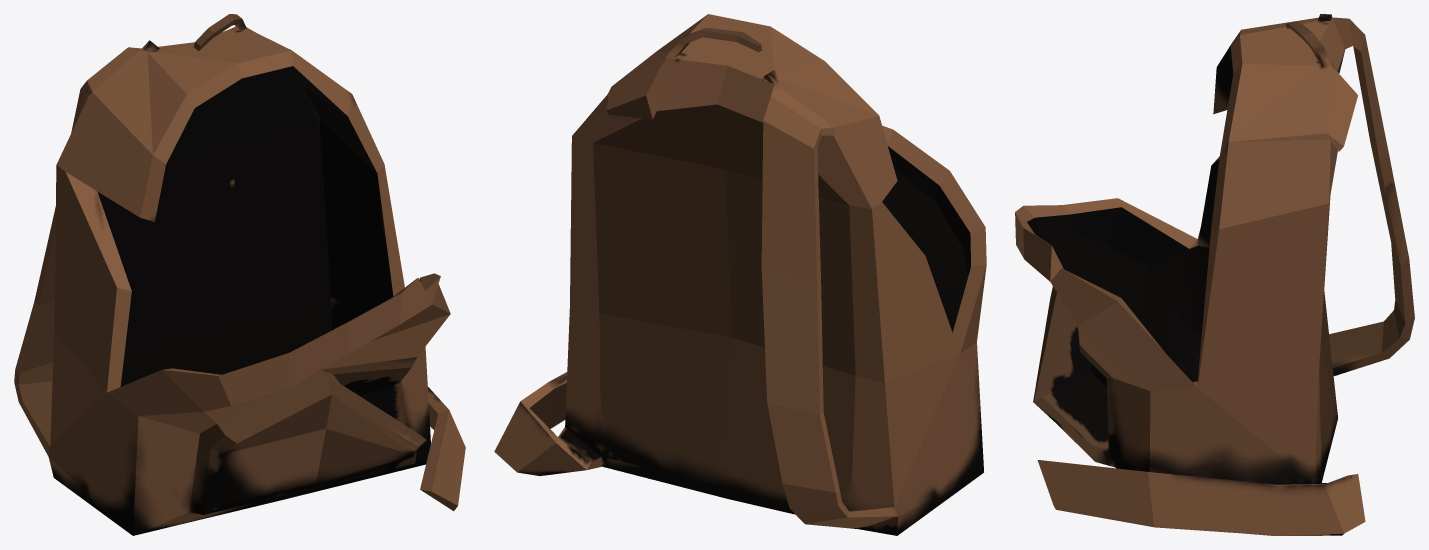
The model's file is Backpack.fbx.
The picture shows the model from 3 angles, left to right: view 1: azimuth 30°, elevation 25°; view 2: azimuth 150°, elevation 25°; view 3: azimuth 270°, elevation 25°; orthographic projection. The views are drawn at different scales.
Parts seen in each view (by area): view 1: Cube; view 2: Cube; view 3: Cube.
Boxes of the visible parts, x1=… form: Cube: x1=14, y1=14, x2=465, y2=535; Cube: x1=494, y1=14, x2=986, y2=535; Cube: x1=1015, y1=14, x2=1414, y2=535.
Bounding box in the file's own units: 131 × 151 × 128.
